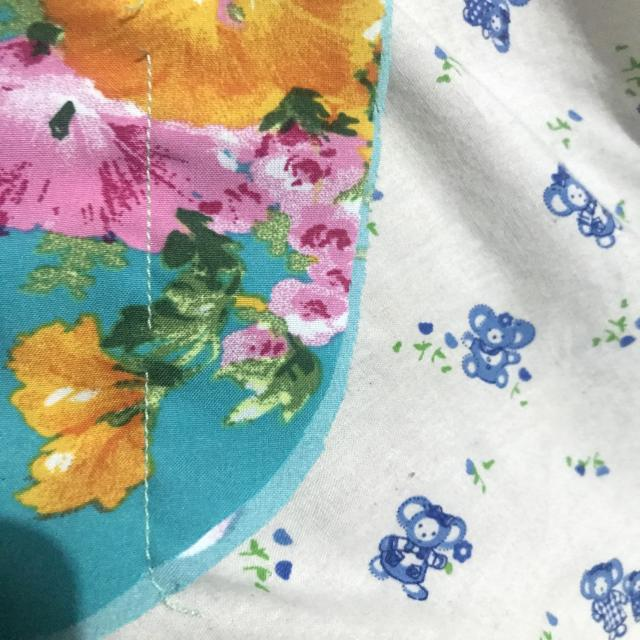broken: (126, 308, 167, 391)
good: (142, 203, 158, 297)
